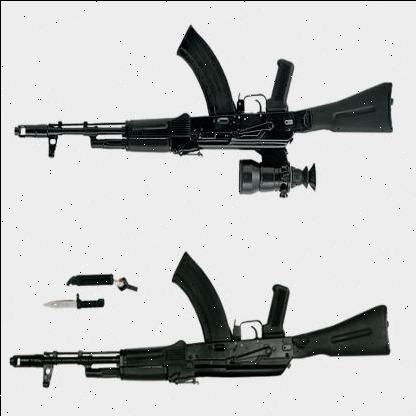rifle: (8, 6, 394, 206), (20, 245, 390, 408)
